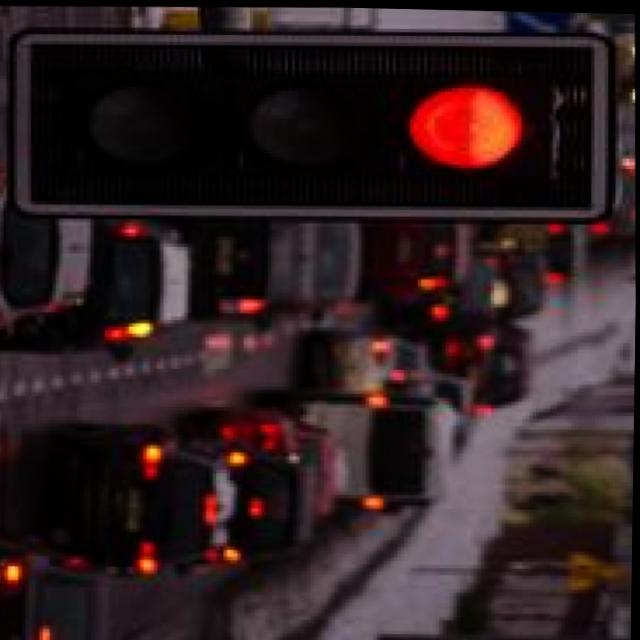red_light: (368, 56, 556, 198)
